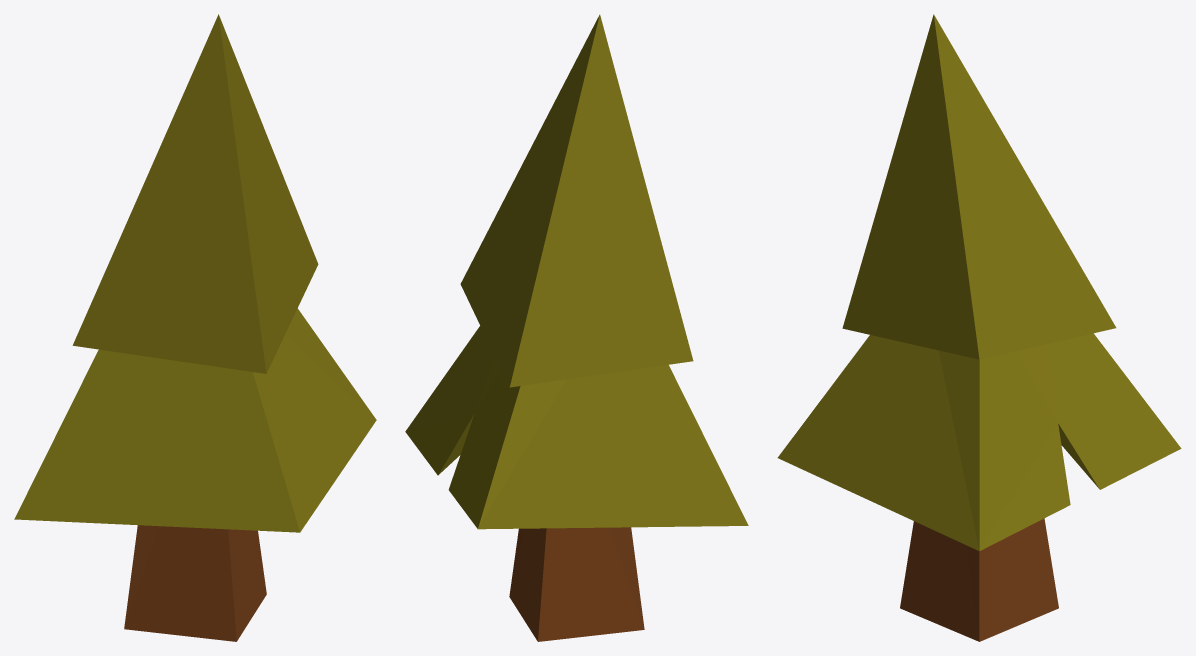
The model's file is PineTree1.fbx.
3 views of the same model, side by side, from view 1: azimuth 30°, elevation 25°; view 2: azimuth 150°, elevation 25°; view 3: azimuth 270°, elevation 25° (orthographic). The views are drawn at different scales.
Parts seen in each view (by area): view 1: PineTree1; view 2: PineTree1; view 3: PineTree1.
Part boxes in pixels (x1,y1,x2,y2): PineTree1: (14,14,376,641); PineTree1: (405,14,748,641); PineTree1: (777,14,1181,641).
Size of the model in its own units: 94.22 by 153 by 94.22.
